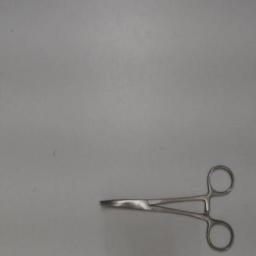Crile Artery Forceps: (98, 162, 236, 254)
